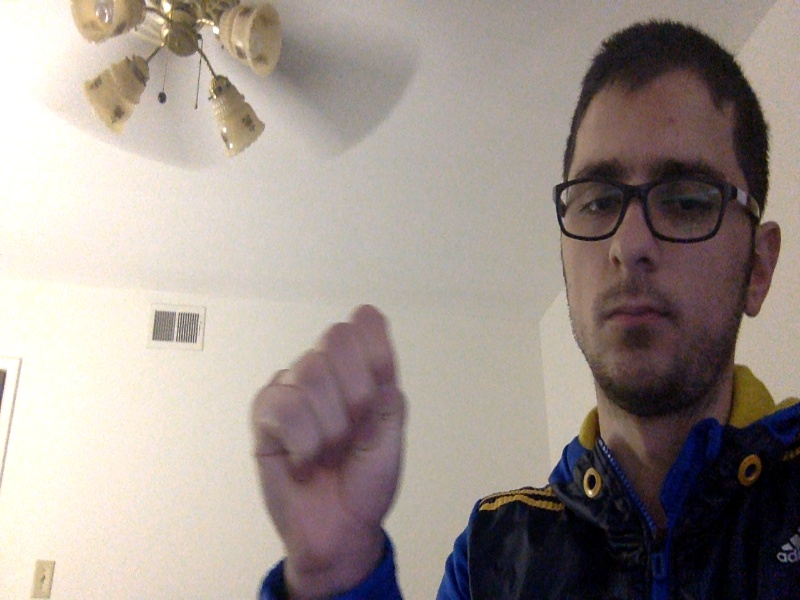0-hand: (243, 305, 409, 564)
